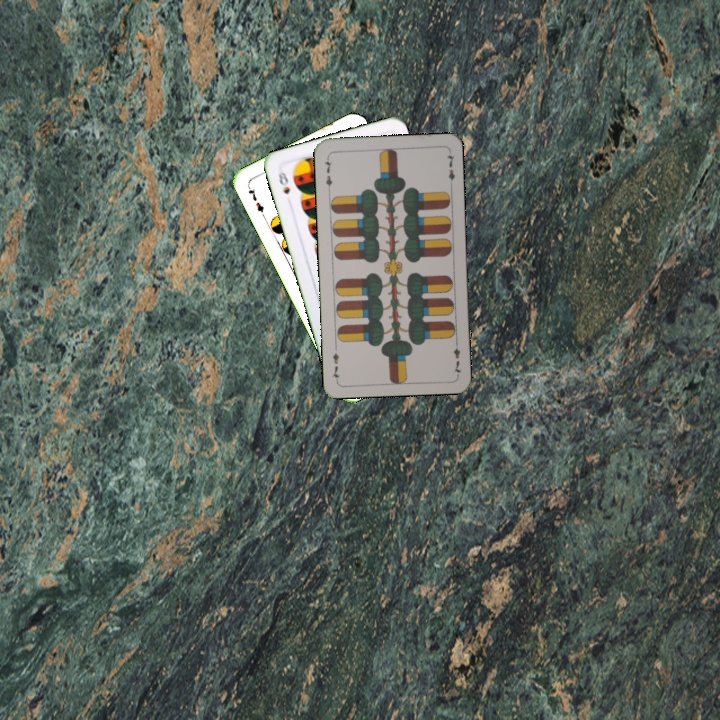E7: (244, 181, 268, 219), (320, 153, 335, 193), (449, 337, 464, 377)
S8: (274, 168, 292, 197)
